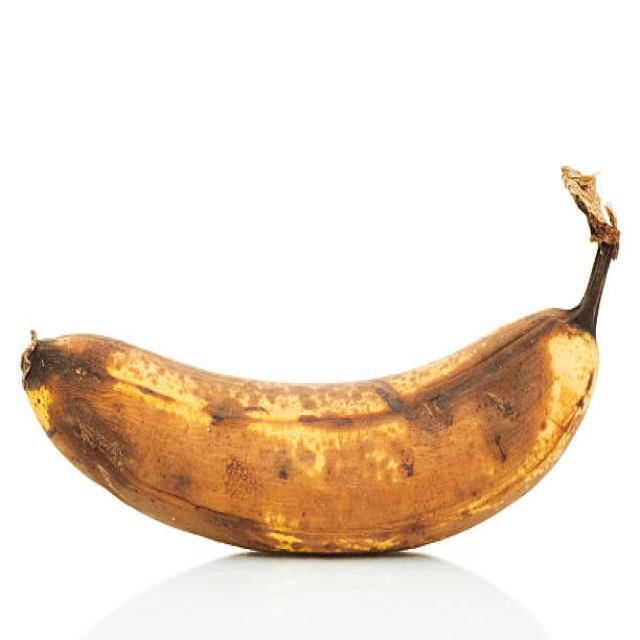overripe: (15, 252, 618, 558)
